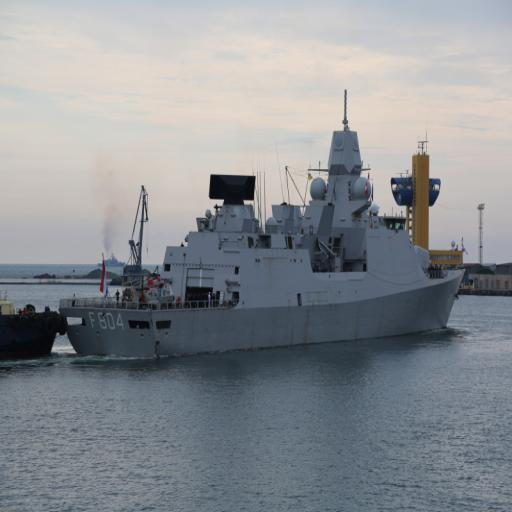Fragata: (60, 71, 468, 371)
